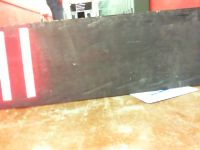switch: (18, 27, 37, 97), (1, 30, 12, 101)
